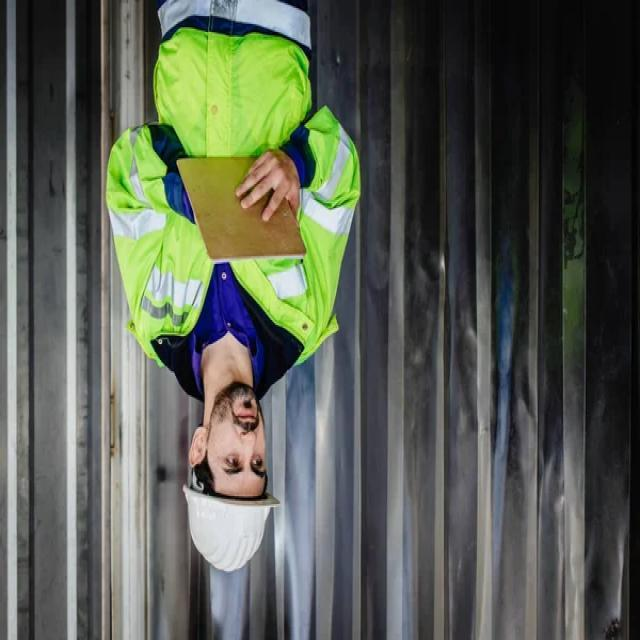safetyhelmet: (186, 423, 282, 580)
